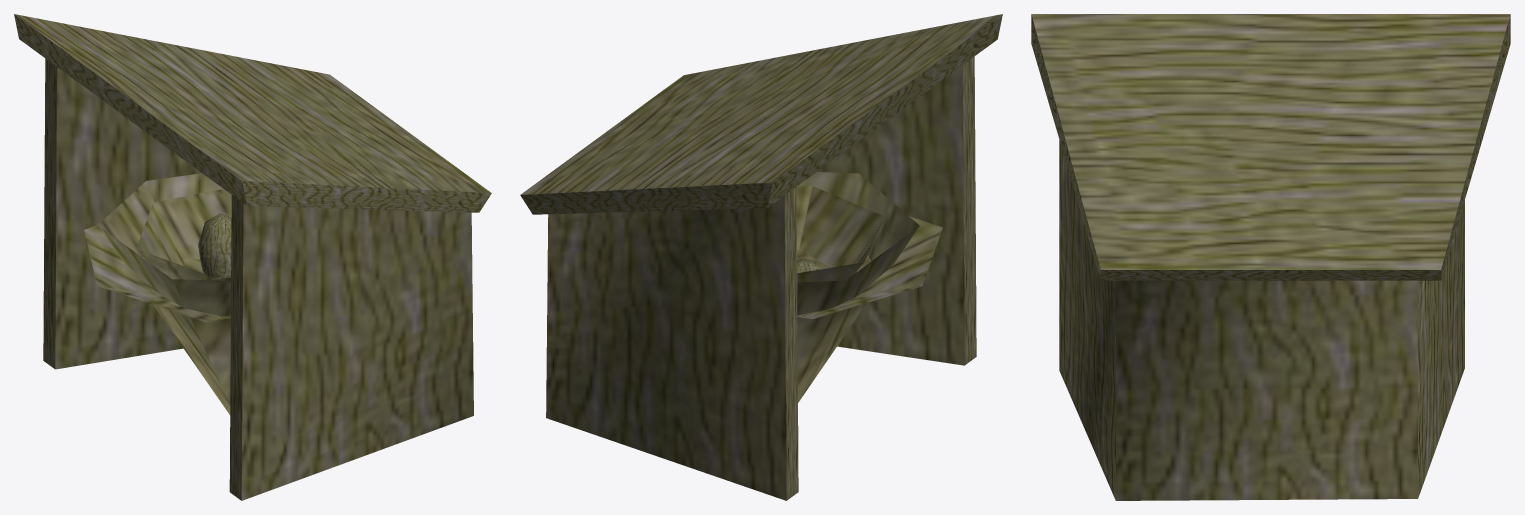
The model's file is kiwibreeding.obj.
3 renders of one model, left to right at view 1: azimuth 30°, elevation 25°; view 2: azimuth 150°, elevation 25°; view 3: azimuth 270°, elevation 25°, orthographic. The views are drawn at different scales.
Parts seen in each view (by area): view 1: Box03, Box04, Duplicate01, Duplicate02, Plane01, Duplicate03; view 2: Duplicate01, Box04, Box03, Duplicate02, Plane01; view 3: Box04, Duplicate02, Box03, Duplicate01.
Boxes of the visible parts, <box> form: Box03: <box>229,195,473,500</box>; Box04: <box>14,14,491,212</box>; Duplicate01: <box>43,58,230,415</box>; Duplicate02: <box>136,189,231,280</box>; Plane01: <box>84,224,230,322</box>; Duplicate03: <box>198,213,231,278</box>; Duplicate01: <box>546,172,919,500</box>; Box04: <box>520,14,1002,214</box>; Box03: <box>817,56,976,365</box>; Duplicate02: <box>796,186,884,282</box>; Plane01: <box>797,216,942,318</box>; Box04: <box>1031,14,1510,280</box>; Duplicate02: <box>1116,280,1417,500</box>; Box03: <box>1059,140,1115,500</box>; Duplicate01: <box>1418,200,1464,498</box>.
Bounding box in the file's own units: 31.16 × 34.91 × 38.99.
